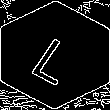L_NE: (25, 25, 85, 85)
